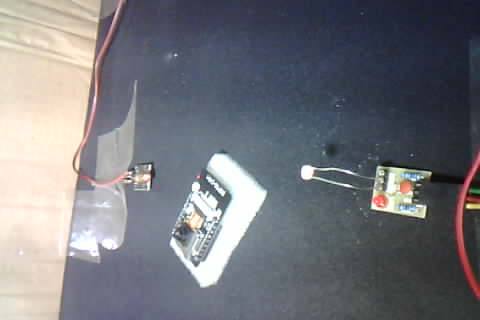esp32: (163, 165, 244, 273)
